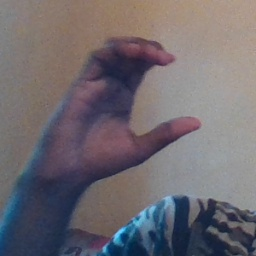C: (96, 32, 206, 162)
